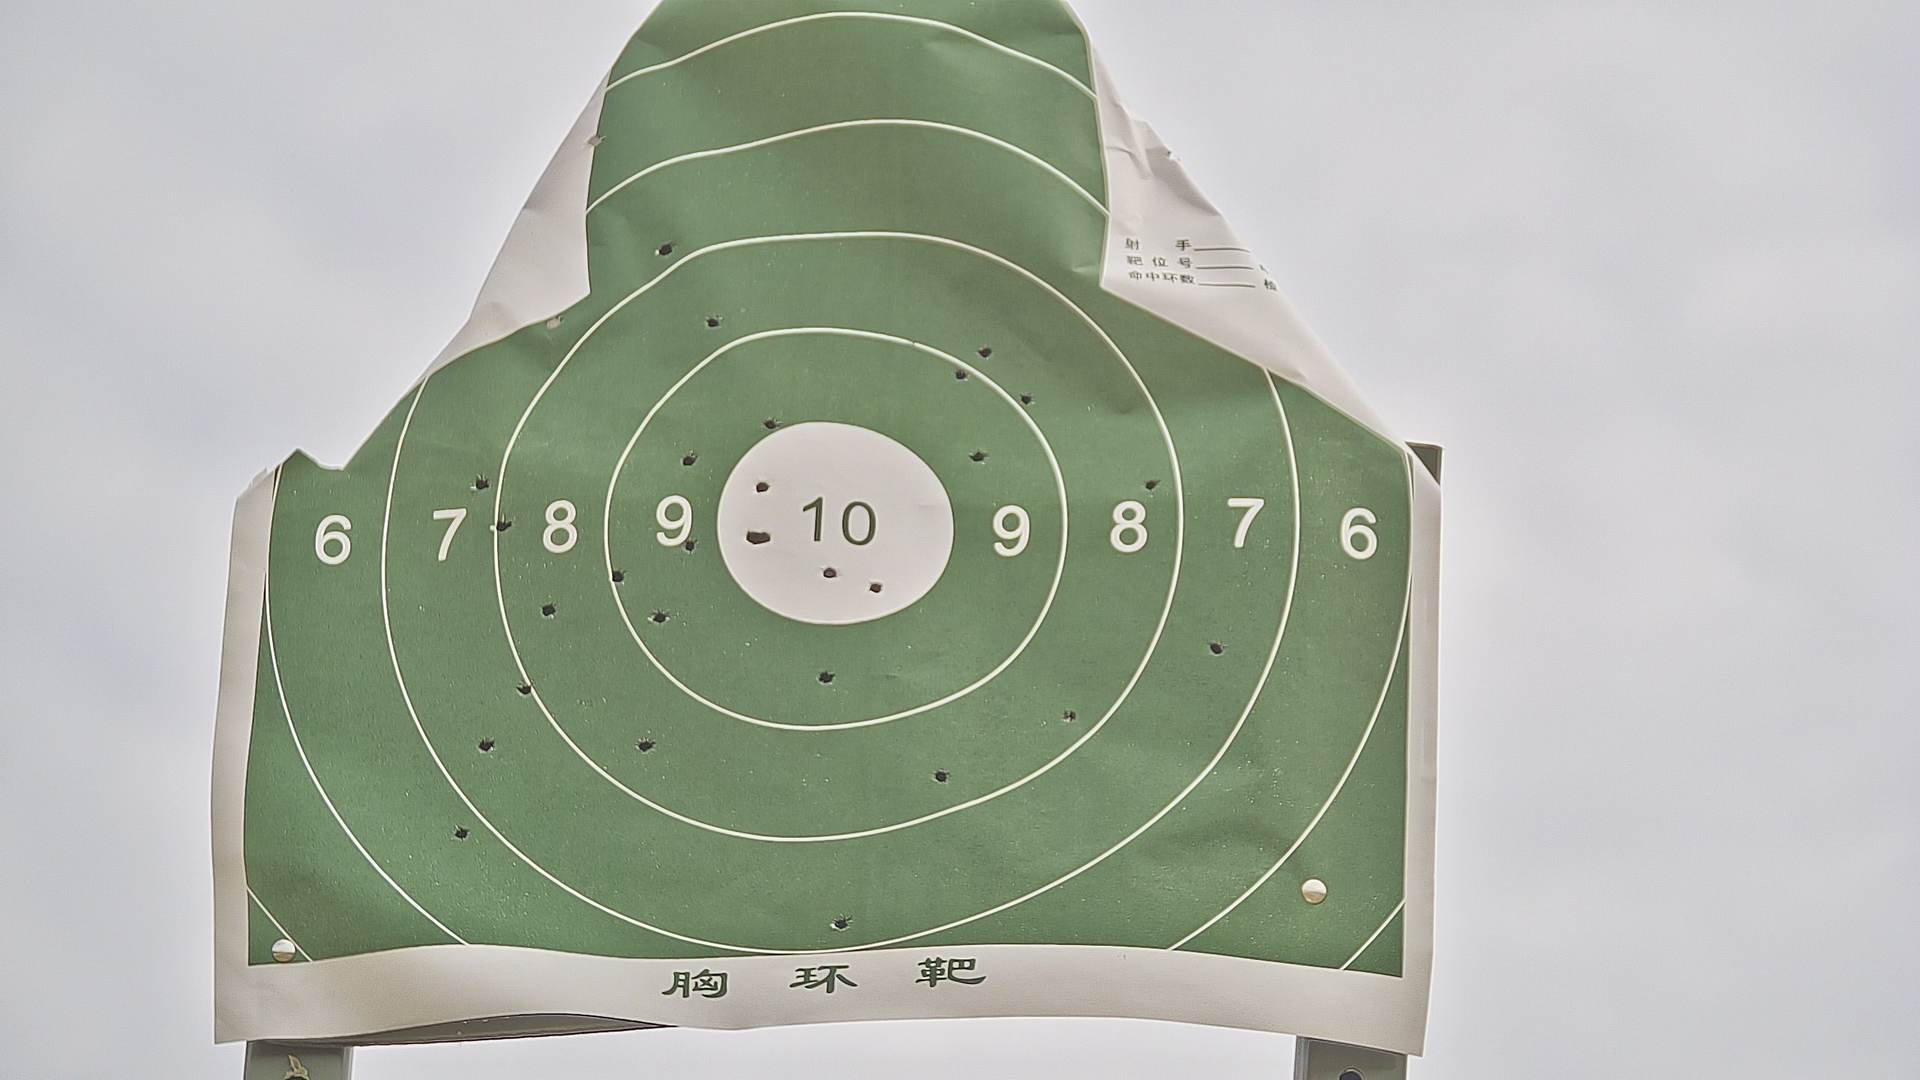hole: (539, 600, 556, 617), (657, 243, 675, 258), (469, 476, 489, 491), (829, 916, 849, 931), (516, 682, 533, 698), (638, 738, 655, 754), (934, 769, 951, 785), (496, 518, 513, 533), (477, 738, 495, 753), (971, 448, 988, 463), (1062, 709, 1079, 724), (704, 314, 723, 327), (454, 825, 469, 840), (589, 135, 607, 148), (609, 568, 624, 583), (818, 669, 832, 683), (1208, 641, 1222, 655), (683, 537, 696, 553), (651, 611, 669, 622), (758, 531, 771, 545), (1021, 393, 1034, 406), (546, 316, 560, 328), (680, 455, 695, 467), (868, 582, 882, 593), (953, 369, 968, 381), (764, 418, 779, 429), (823, 566, 836, 578), (1145, 477, 1156, 491), (746, 530, 757, 545), (978, 345, 992, 356), (756, 481, 767, 492)
kernel: (827, 520, 844, 530)
target: (236, 5, 1408, 984)
ten: (715, 427, 961, 625)
